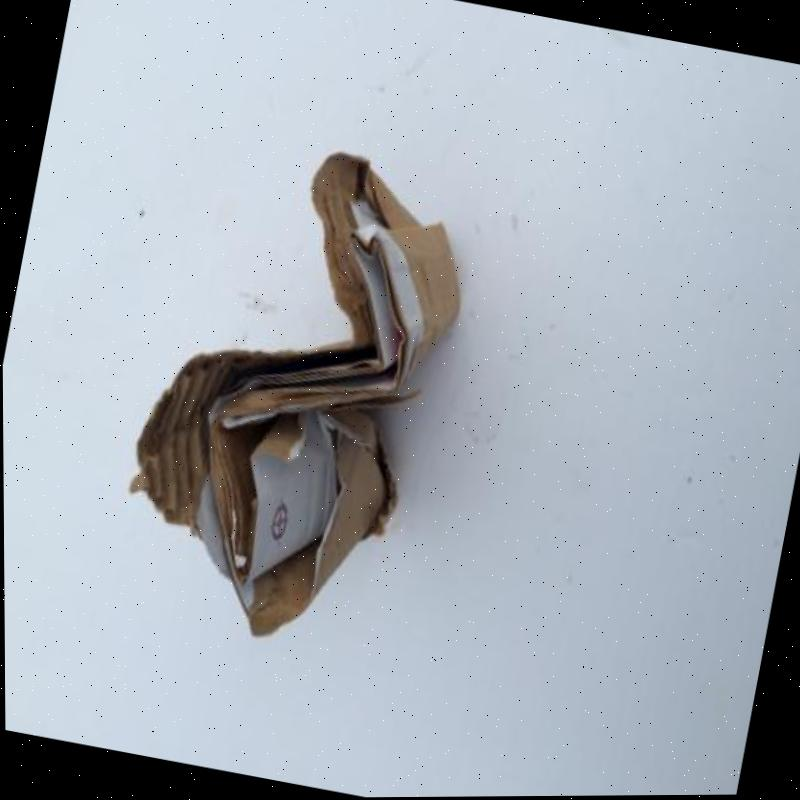cardboard: (129, 152, 463, 641)
